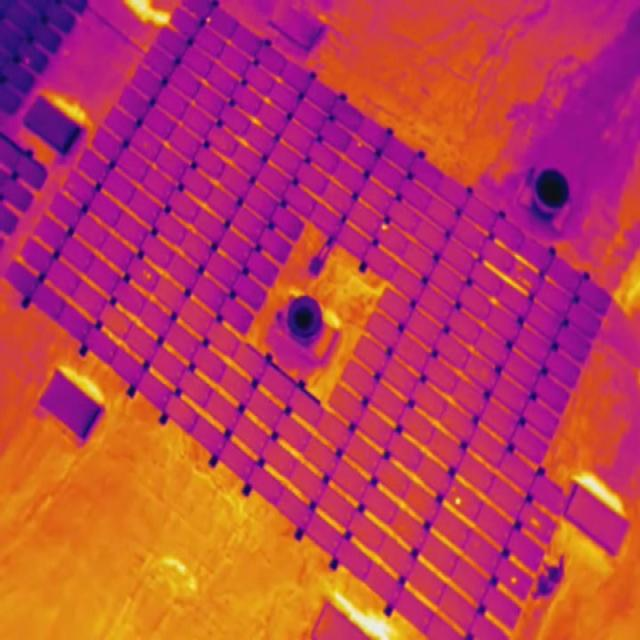Orange-Spots: (530, 517, 541, 528), (142, 270, 151, 280), (522, 279, 532, 288), (381, 223, 389, 232), (454, 497, 462, 506), (510, 576, 518, 585), (206, 17, 212, 24), (25, 57, 30, 65), (517, 266, 523, 272), (357, 142, 362, 147), (451, 487, 456, 492), (518, 277, 523, 281)
